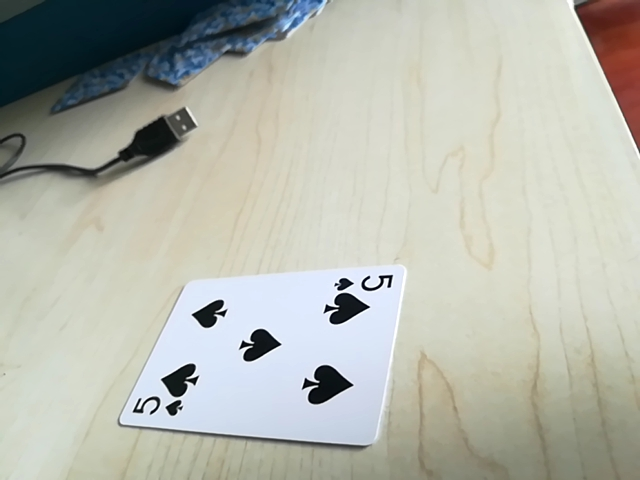ht 5: (124, 389, 193, 423), (330, 267, 396, 297)
